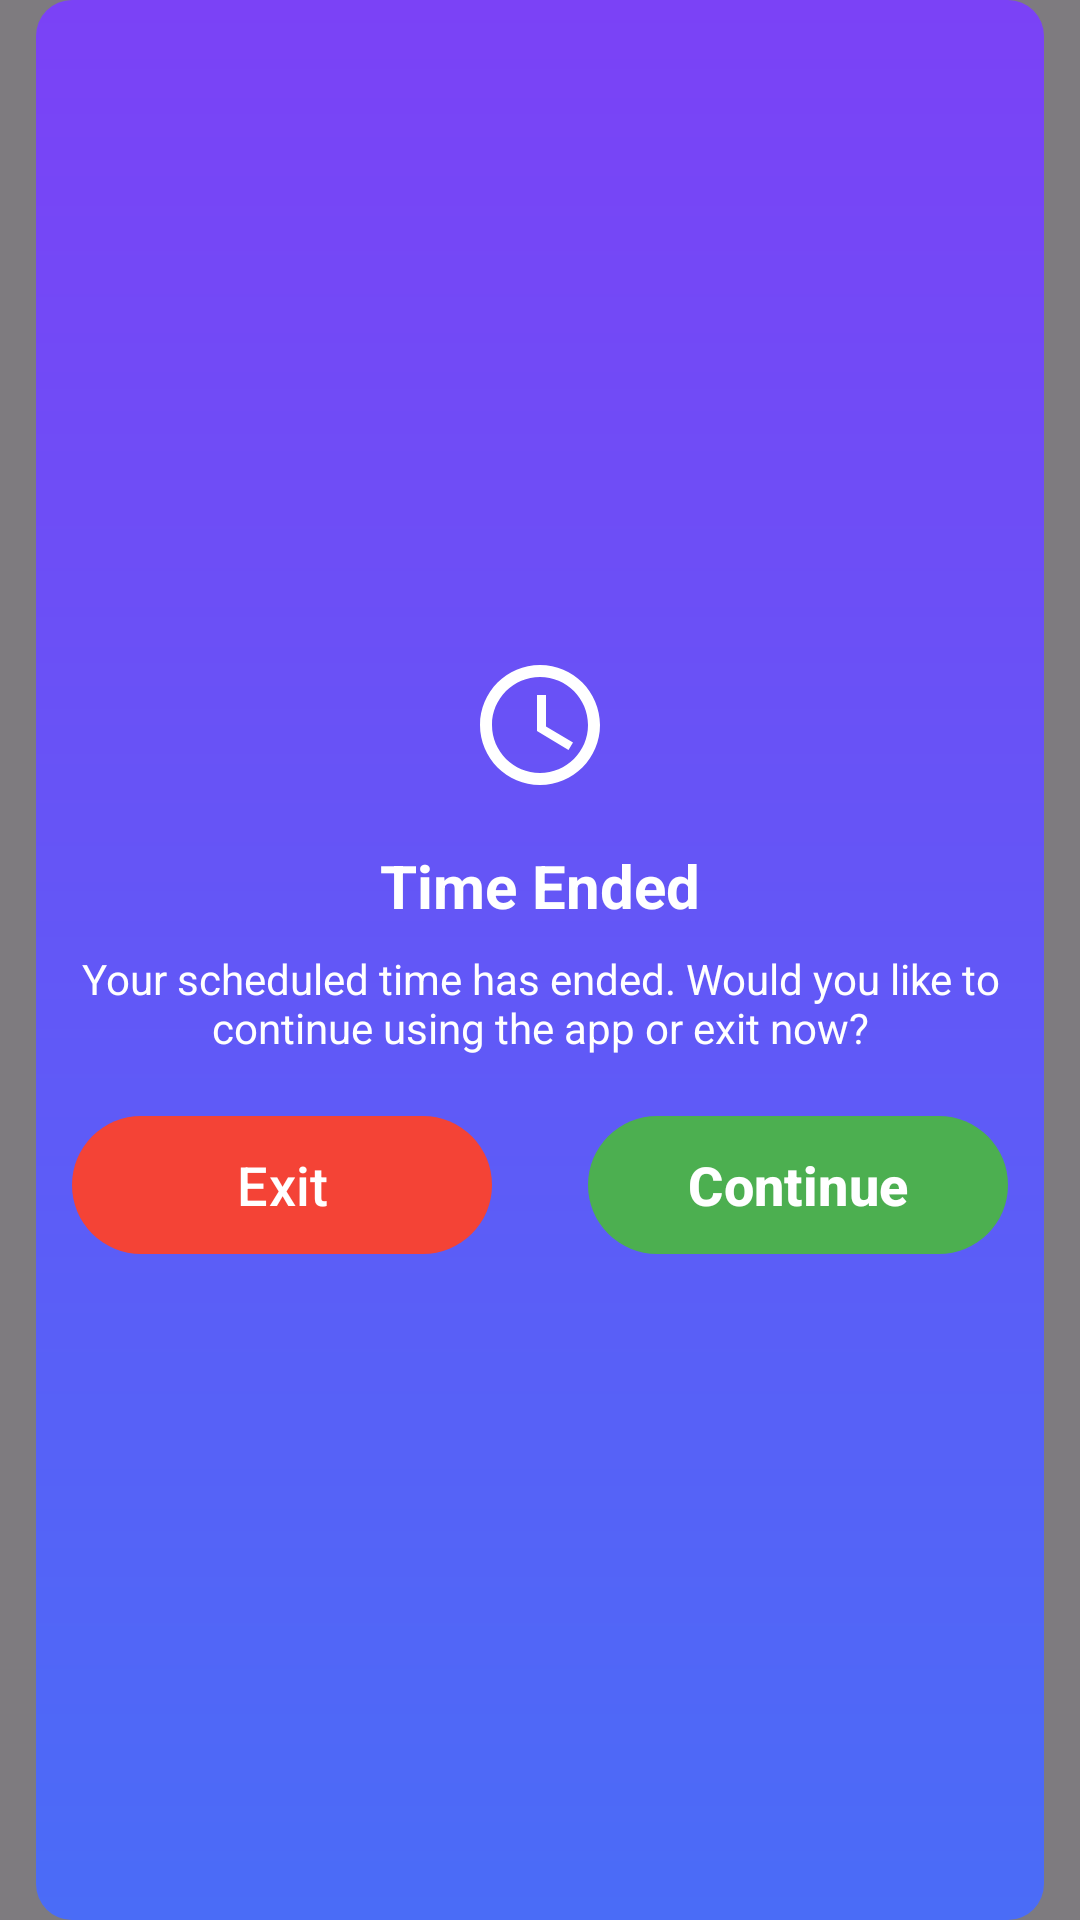

Point at icon controls on the screen. Image size 1080 x 1920, points as point (x, y).
clock: point (540, 725)
